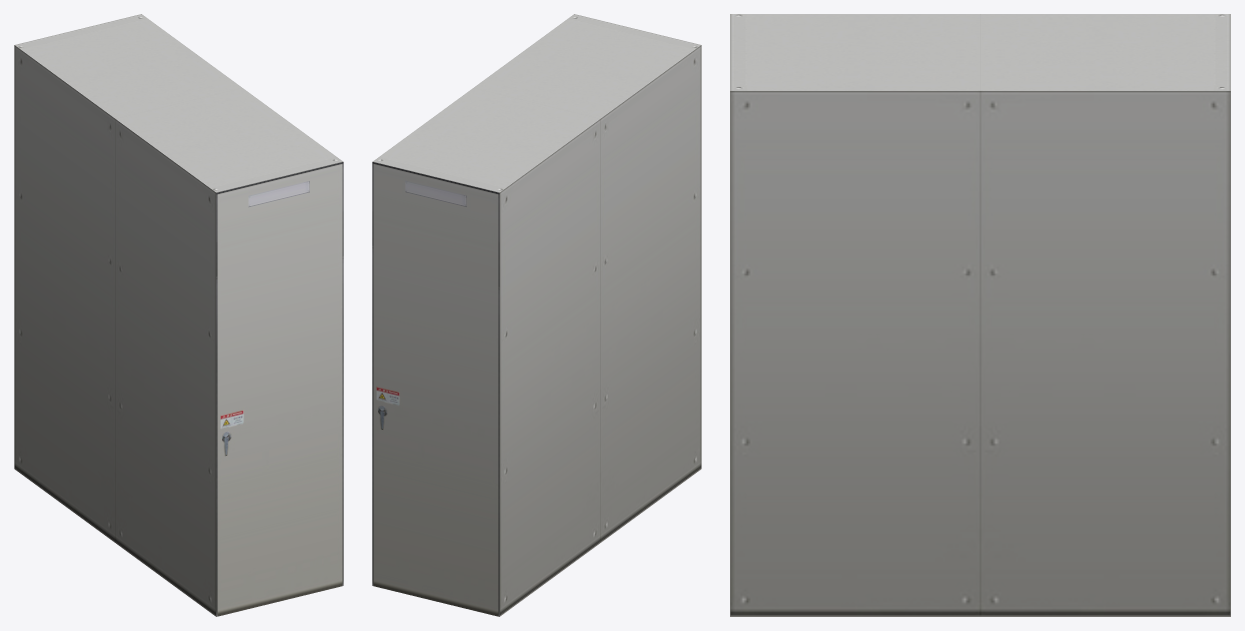
The model's file is Blank_Panel_02.gltf.
3 renders of one model, left to right at view 1: azimuth 30°, elevation 25°; view 2: azimuth 150°, elevation 25°; view 3: azimuth 270°, elevation 25°, orthographic. The views are drawn at different scales.
Parts seen in each view (by area): view 1: JUNC-B003; view 2: JUNC-B003; view 3: JUNC-B003.
Boxes of the visible parts, <box> form: JUNC-B003: <box>14,14,343,616</box>; JUNC-B003: <box>372,14,701,616</box>; JUNC-B003: <box>730,14,1230,616</box>.
Size of the model in its own units: 0.8 by 2.55 by 2.2.
1 material, 1 textured.
